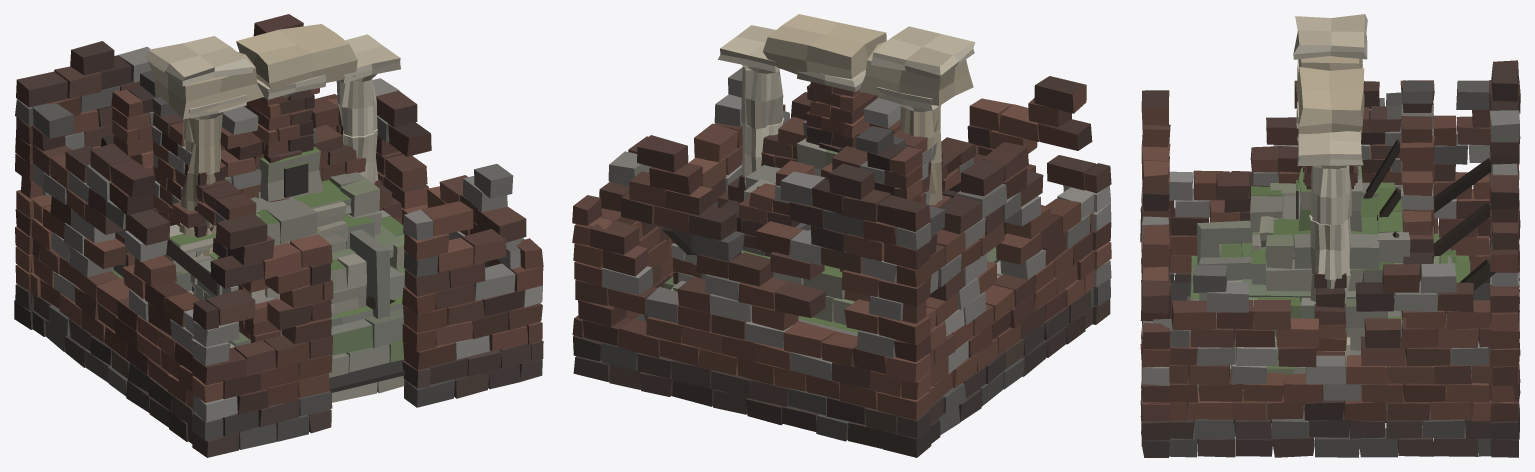
File: ruiny.glb
3 views of the same model, side by side, from view 1: azimuth 30°, elevation 25°; view 2: azimuth 150°, elevation 25°; view 3: azimuth 270°, elevation 25° (orthographic). The views are drawn at different scales.
Parts seen in each view (by area): view 1: spal_dom, azt_piramida, ant_portyk, spal_naroznik, spal_sciana, spal_komin, azt_mur, ant_kolumna; view 2: spal_dom, ant_portyk, spal_naroznik, azt_piramida, spal_komin, spal_sciana, ant_kolumna; view 3: spal_dom, azt_piramida, ant_portyk, spal_naroznik, spal_sciana, spal_komin.
Part boxes in pixels (x1,y1,x2,y2): spal_dom: [14, 14, 543, 457]; azt_piramida: [112, 147, 405, 402]; ant_portyk: [145, 24, 400, 256]; spal_naroznik: [111, 70, 280, 342]; spal_sciana: [164, 106, 402, 273]; spal_komin: [244, 89, 314, 202]; azt_mur: [165, 224, 215, 296]; ant_kolumna: [256, 74, 326, 151]; spal_dom: [572, 67, 1111, 457]; ant_portyk: [718, 14, 975, 204]; spal_naroznik: [671, 126, 985, 301]; azt_piramida: [664, 138, 1002, 336]; spal_komin: [806, 82, 877, 152]; spal_sciana: [717, 97, 951, 208]; ant_kolumna: [797, 70, 865, 105]; spal_dom: [1140, 60, 1520, 457]; azt_piramida: [1189, 166, 1471, 436]; ant_portyk: [1293, 14, 1367, 301]; spal_naroznik: [1209, 80, 1435, 355]; spal_sciana: [1314, 271, 1346, 358]; spal_komin: [1302, 165, 1358, 189].
Size of the model in its own units: 4.42 by 3.93 by 4.36.
